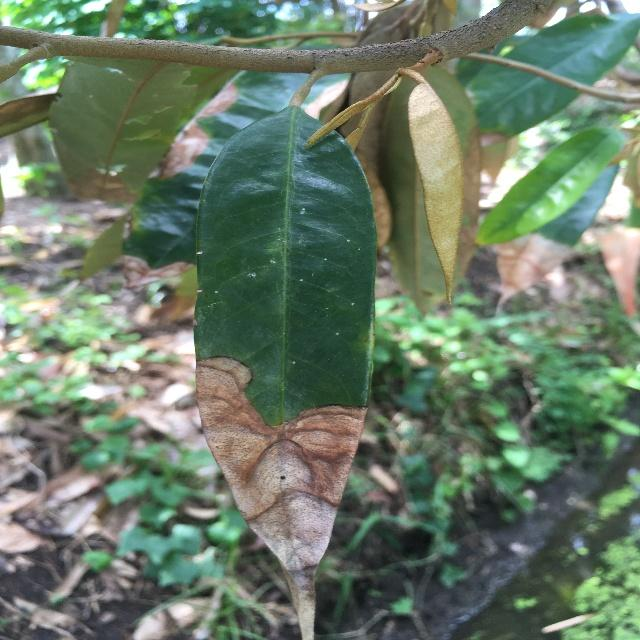Leaf Blight: (187, 97, 383, 640)
